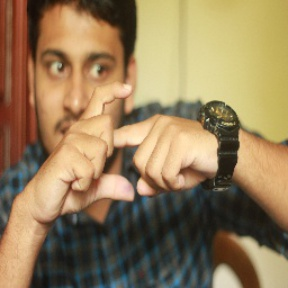E: (78, 80, 160, 211)
